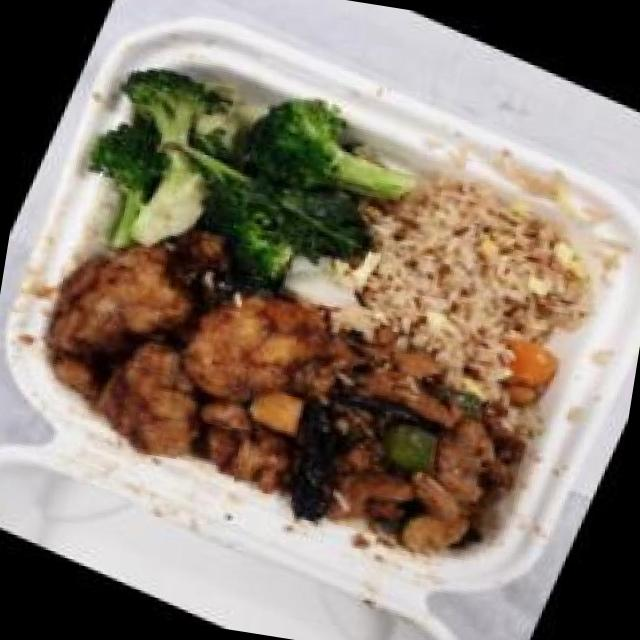Kung Pao Chicken: (207, 284, 566, 606)
Super Greens: (41, 9, 430, 348)
The Original Orange Chicken: (0, 199, 356, 517)
White Steamed Rice: (307, 137, 626, 428)
